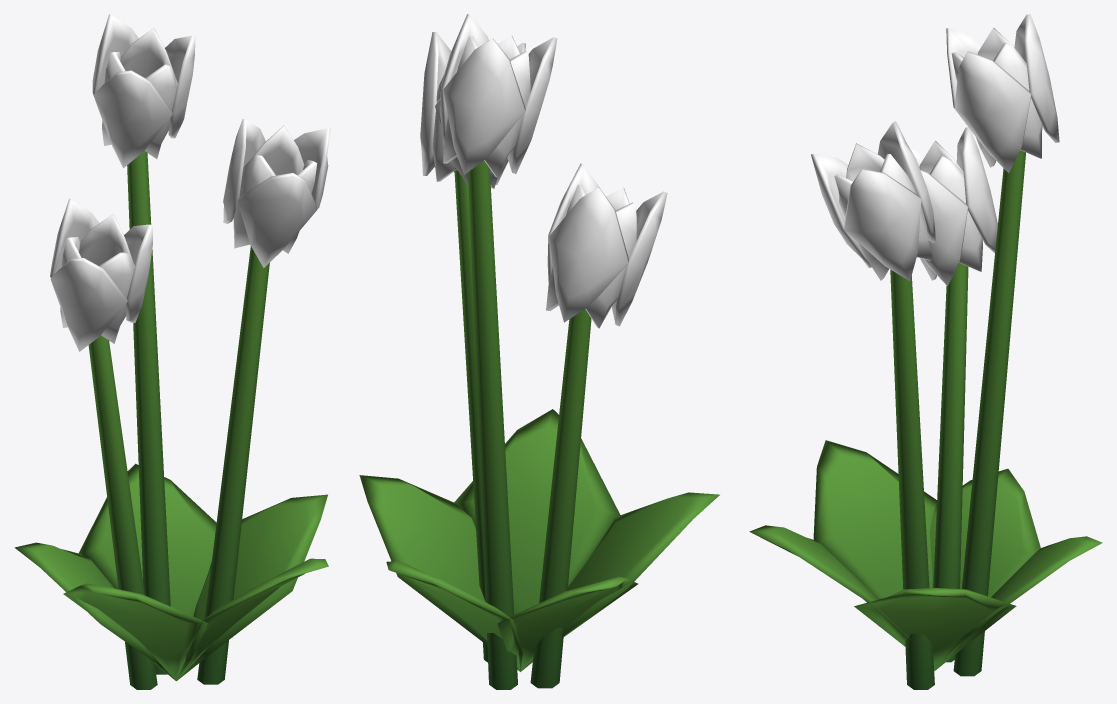
File: flower_tulip.glb
The picture shows the model from 3 angles, left to right: view 1: azimuth 30°, elevation 25°; view 2: azimuth 150°, elevation 25°; view 3: azimuth 270°, elevation 25°; orthographic projection. The views are drawn at different scales.
Visible parts, largest first — view 1: flower_tulip, flower_tulip_top; view 2: flower_tulip, flower_tulip_top; view 3: flower_tulip, flower_tulip_top.
Boxes of the visible parts, x1=… form: flower_tulip: x1=14, y1=151, x2=328, y2=689; flower_tulip_top: x1=50, y1=14, x2=330, y2=351; flower_tulip: x1=359, y1=160, x2=719, y2=689; flower_tulip_top: x1=420, y1=14, x2=667, y2=328; flower_tulip: x1=749, y1=150, x2=1102, y2=689; flower_tulip_top: x1=811, y1=14, x2=1059, y2=285.
Size of the model in its own units: 0.2894 by 0.6135 by 0.3041.
